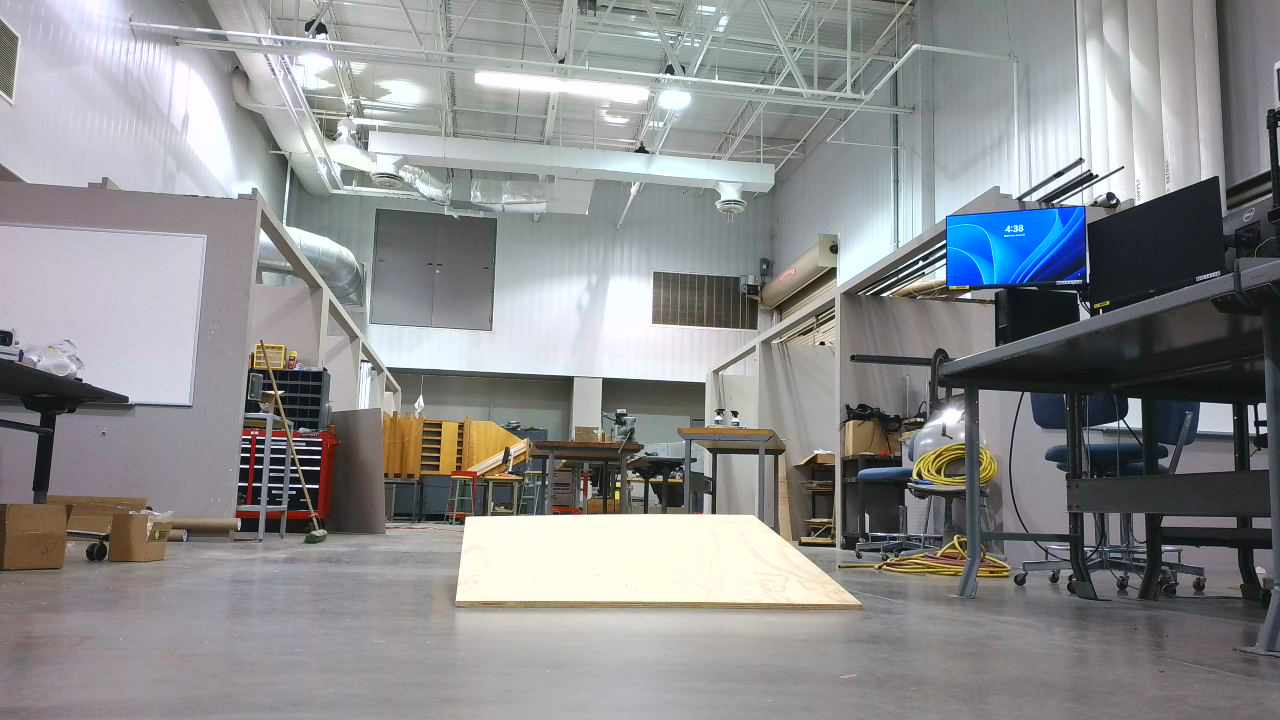ramp: (456, 515, 872, 621)
